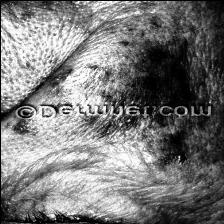Non-Cancerous Skin Condition: (65, 19, 212, 101), (107, 134, 207, 178), (0, 153, 29, 197)
